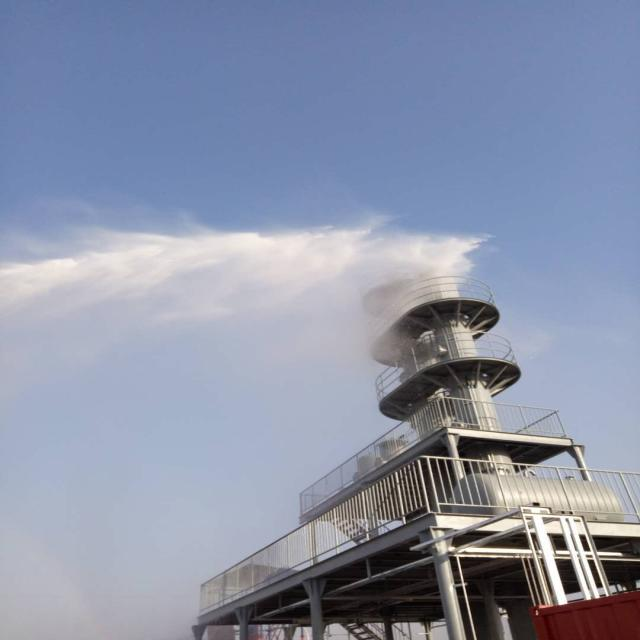Smoke: (2, 223, 480, 307)
